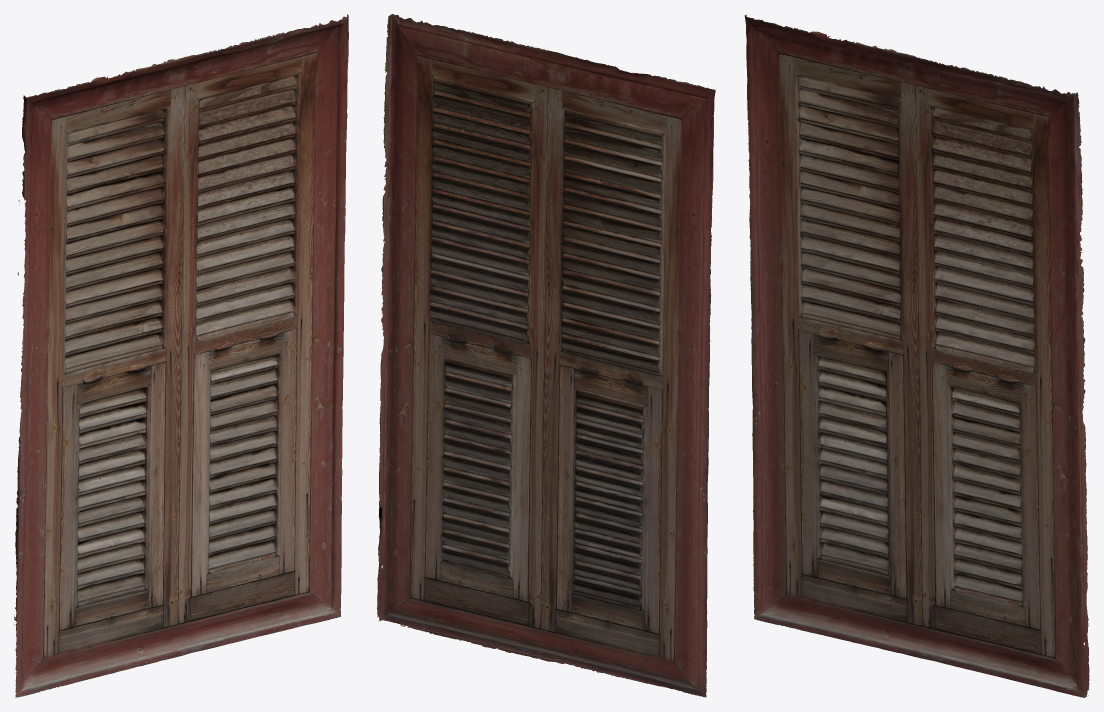
The model's file is decrepit_window_1.glb.
3 renders of one model, left to right at view 1: azimuth 30°, elevation 25°; view 2: azimuth 150°, elevation 25°; view 3: azimuth 330°, elevation 25°, orthographic.
Parts seen in each view (by area): view 1: Model; view 2: Model; view 3: Model.
Boxes of the visible parts, left/top/right/bottom form: Model: left=14, top=14, right=348, bottom=697; Model: left=377, top=14, right=715, bottom=697; Model: left=744, top=14, right=1089, bottom=697.
Bounding box in the file's own units: 1.41 × 2.51 × 0.1271.
Materials: 1 (1 with a texture image).
